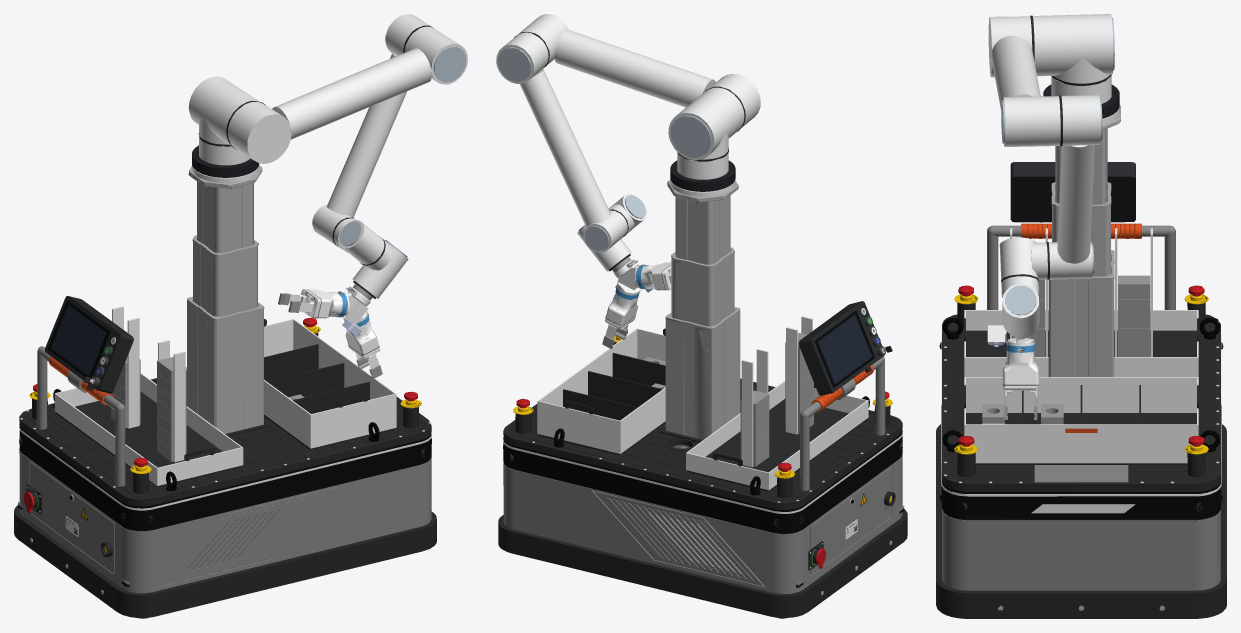
3 renders of one model, left to right at view 1: azimuth 30°, elevation 25°; view 2: azimuth 150°, elevation 25°; view 3: azimuth 270°, elevation 25°, orthographic. The views are drawn at different scales.
Parts seen in each view (by area): view 1: Cassette CNC stock:1, Chassis Frame:1, =>[0:1:1:7], Cassette CNC finished:1, Lift stage 1 base and outer tube:1, Shell:1, Service and Operator:1, OnRobot Dual Quick Changer:1, Base Sensors:1, UR12e Shoulder:1, Visor ring:1; view 2: Cassette CNC stock:1, Chassis Frame:1, =>[0:1:1:7], Cassette CNC finished:1, Lift stage 1 base and outer tube:1, Shell:1, UR12e Shoulder:1, Service and Operator:1, OnRobot Dual Quick Changer:1, Base Sensors:1, Visor ring:1; view 3: Cassette CNC stock:1, Chassis Frame:1, =>[0:1:1:7], Cassette CNC finished:1, Lift stage 1 base and outer tube:1, Shell:1, OnRobot Dual Quick Changer:1, Base Sensors:1, UR12e Shoulder:1, Caster front left:1, Visor ring:1.
Part boxes in pixels (x1,y1,x2,y2): Cassette CNC stock:1: (19,25,432,559); Chassis Frame:1: (18,346,431,593); =>[0:1:1:7]: (188,14,467,298); Cassette CNC finished:1: (14,373,436,617); Lift stage 1 base and outer tube:1: (187,165,264,433); Shell:1: (19,300,431,585); Service and Operator:1: (25,305,112,557); OnRobot Dual Quick Changer:1: (289,286,379,368); Base Sensors:1: (23,318,425,594); UR12e Shoulder:1: (339,46,466,257); Visor ring:1: (192,145,259,177); Cassette CNC stock:1: (503,32,902,539); Chassis Frame:1: (503,356,904,593); =>[0:1:1:7]: (496,14,760,271); Cassette CNC finished:1: (498,381,907,617); Lift stage 1 base and outer tube:1: (665,179,740,448); Shell:1: (503,308,902,586); UR12e Shoulder:1: (498,47,711,251); Service and Operator:1: (808,315,895,570); OnRobot Dual Quick Changer:1: (605,259,671,338); Base Sensors:1: (509,310,892,595); Visor ring:1: (670,160,735,191); Cassette CNC stock:1: (939,15,1223,520); Chassis Frame:1: (941,225,1221,590); =>[0:1:1:7]: (988,14,1119,337); Cassette CNC finished:1: (936,317,1226,618); Lift stage 1 base and outer tube:1: (1048,105,1120,376); Shell:1: (940,320,1222,519); OnRobot Dual Quick Changer:1: (1002,284,1038,406); Base Sensors:1: (941,285,1221,610); UR12e Shoulder:1: (1001,17,1114,315); Caster front left:1: (942,317,1220,452); Visor ring:1: (1043,84,1119,118).
Size of the model in its own units: 1.23 by 1.51 by 0.72.
